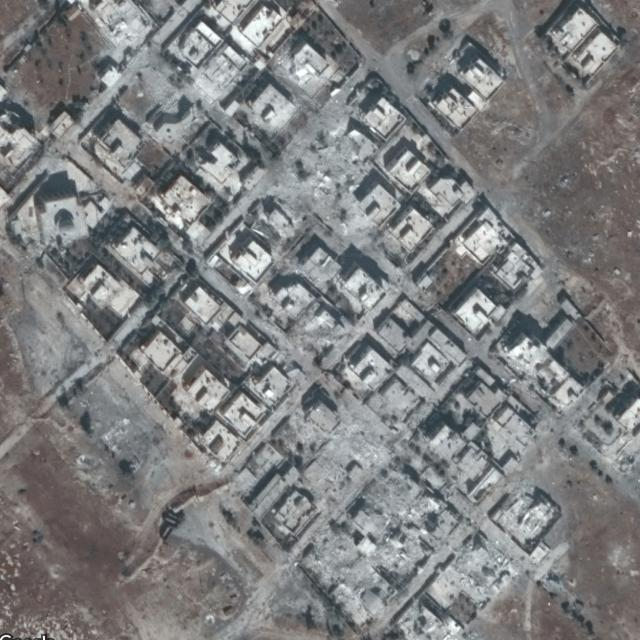damaged_building: (271, 404, 554, 640), (270, 113, 381, 242), (284, 297, 358, 363)
